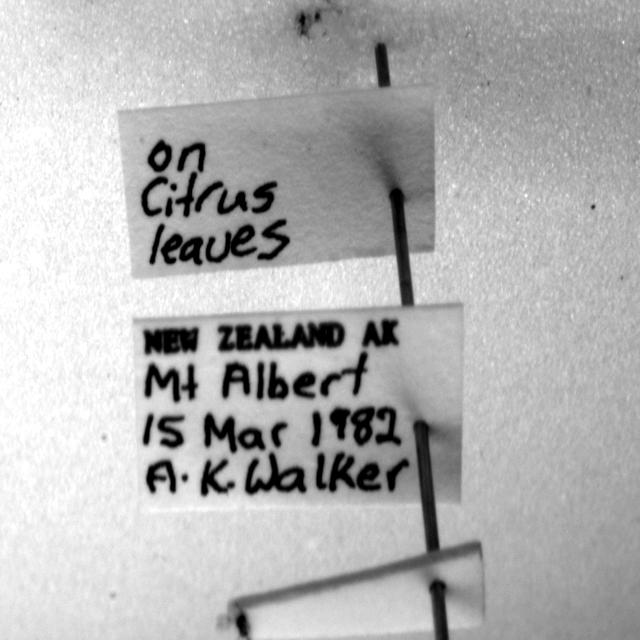hand_label: (119, 86, 435, 278)
mixed_label: (134, 304, 462, 510)
